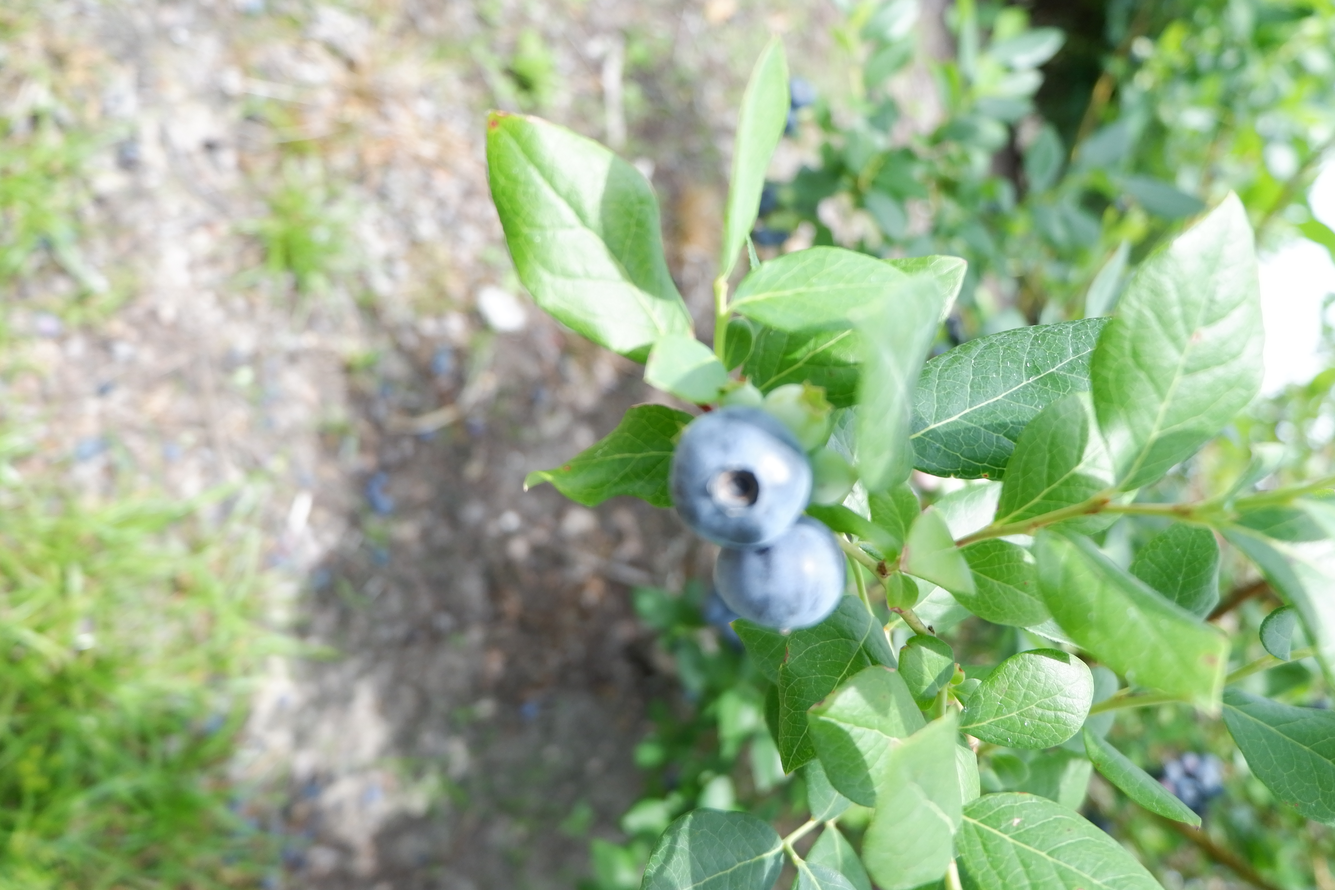Mature: (673, 410, 811, 546), (717, 519, 845, 629)
